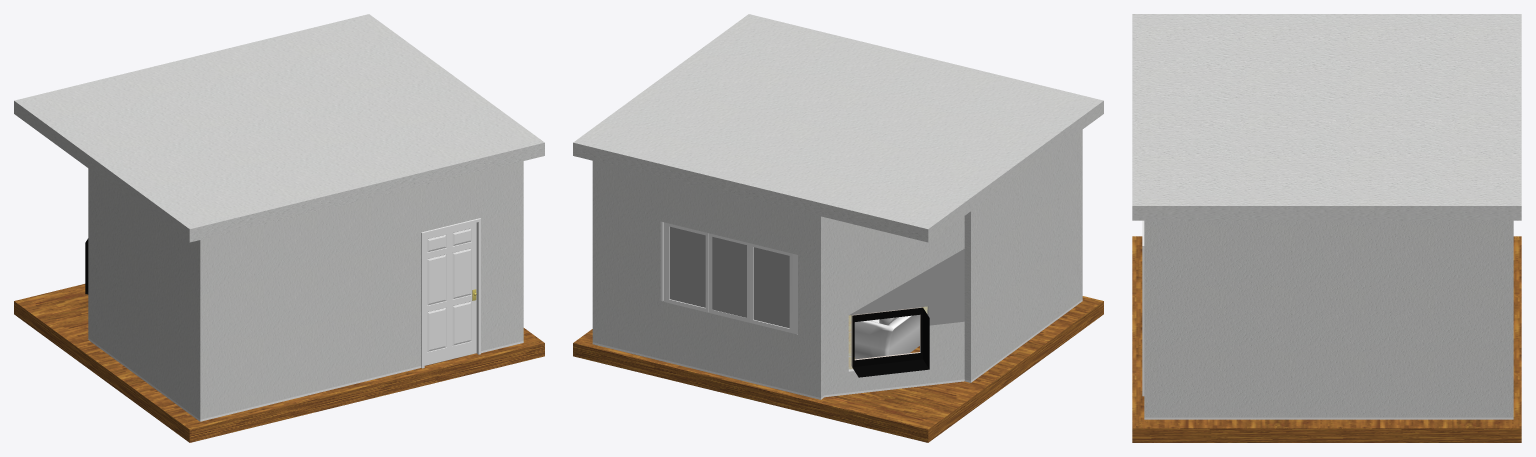
File: FloorPlan222_physics.fbx
3 views of the same model, side by side, from view 1: azimuth 30°, elevation 25°; view 2: azimuth 150°, elevation 25°; view 3: azimuth 270°, elevation 25° (orthographic). The views are drawn at different scales.
Visible parts, largest first — view 1: FP222:StandardWallSize, FP222:Ceiling, FP222:Floor, FP222:StandardDoor1, FP222:StandardDoorFrame1; view 2: FP222:StandardWallSize, FP222:Ceiling, FP222:Floor, FP222:Window1, FP222:Cylinder.028, FP222:StandardWindow1, FP222:Sofa1, FP222:WindowTreatment1; view 3: FP222:Ceiling, FP222:StandardWallSize, FP222:Floor, FP222:StandardDoorFrame1.
Part boxes in pixels (box(x1,y1,x2,y2)): FP222:StandardWallSize: box(88, 161, 523, 421); FP222:Ceiling: box(14, 14, 544, 242); FP222:Floor: box(14, 284, 544, 442); FP222:StandardDoor1: box(424, 222, 476, 365); FP222:StandardDoorFrame1: box(421, 218, 480, 368); FP222:StandardWallSize: box(592, 130, 1082, 399); FP222:Ceiling: box(573, 14, 1103, 242); FP222:Floor: box(573, 296, 1103, 442); FP222:Window1: box(669, 226, 789, 328); FP222:Cylinder.028: box(848, 306, 929, 377); FP222:StandardWindow1: box(666, 223, 792, 332); FP222:Sofa1: box(854, 315, 919, 359); FP222:WindowTreatment1: box(660, 221, 797, 334); FP222:Ceiling: box(1132, 14, 1521, 220); FP222:StandardWallSize: box(1144, 220, 1513, 419); FP222:Floor: box(1132, 236, 1521, 442); FP222:StandardDoorFrame1: box(1142, 220, 1144, 396).
Bounding box in the file's own units: 5.6 × 3.22 × 4.8.
